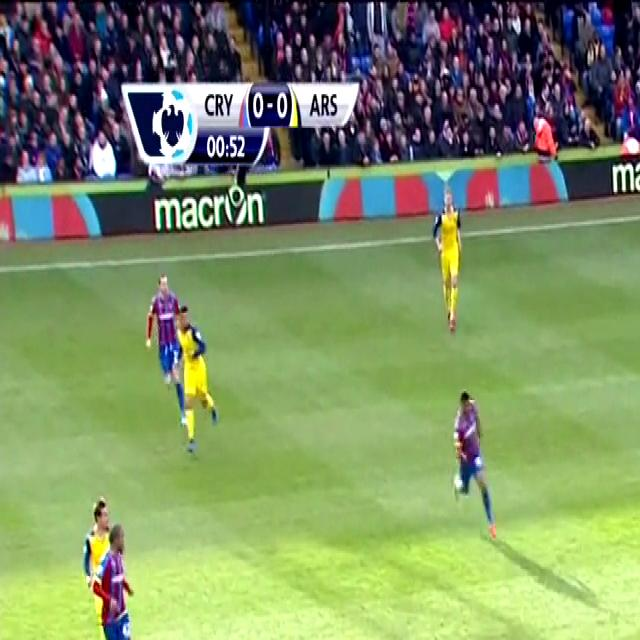soccer-player: (444, 379, 500, 541), (172, 302, 220, 464), (91, 514, 149, 640), (143, 257, 185, 415), (428, 174, 463, 344)
